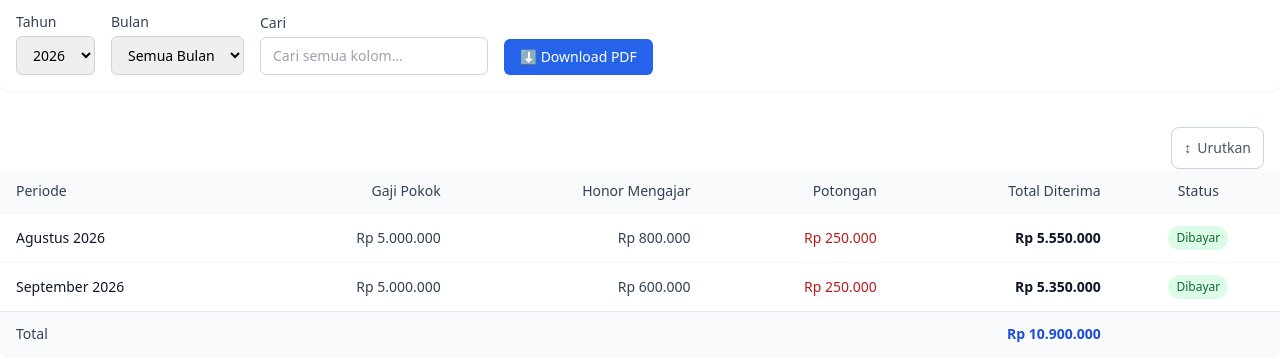
DosenSalarySlip › ketik query → hanya baris cocok (search)
This screenshot has width=1280, height=359.
Expected: the text "Agustus 2026" is shown, [0,214,249,262]
In the field with placeholder "Cari semua kolom...": (374, 56) [260,37,488,75], type "2026-09"
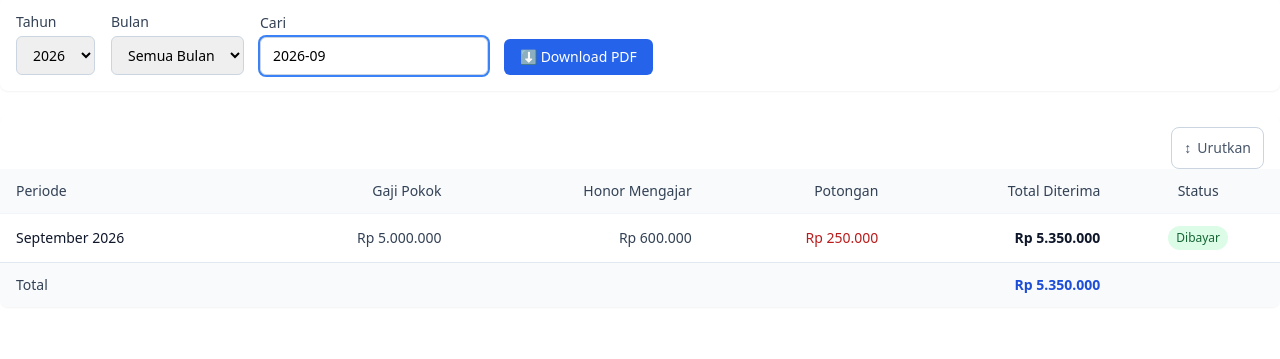
Expected: the text "September 2026" is shown, [0,214,250,262]
Now the text "Agustus 2026" is gone
